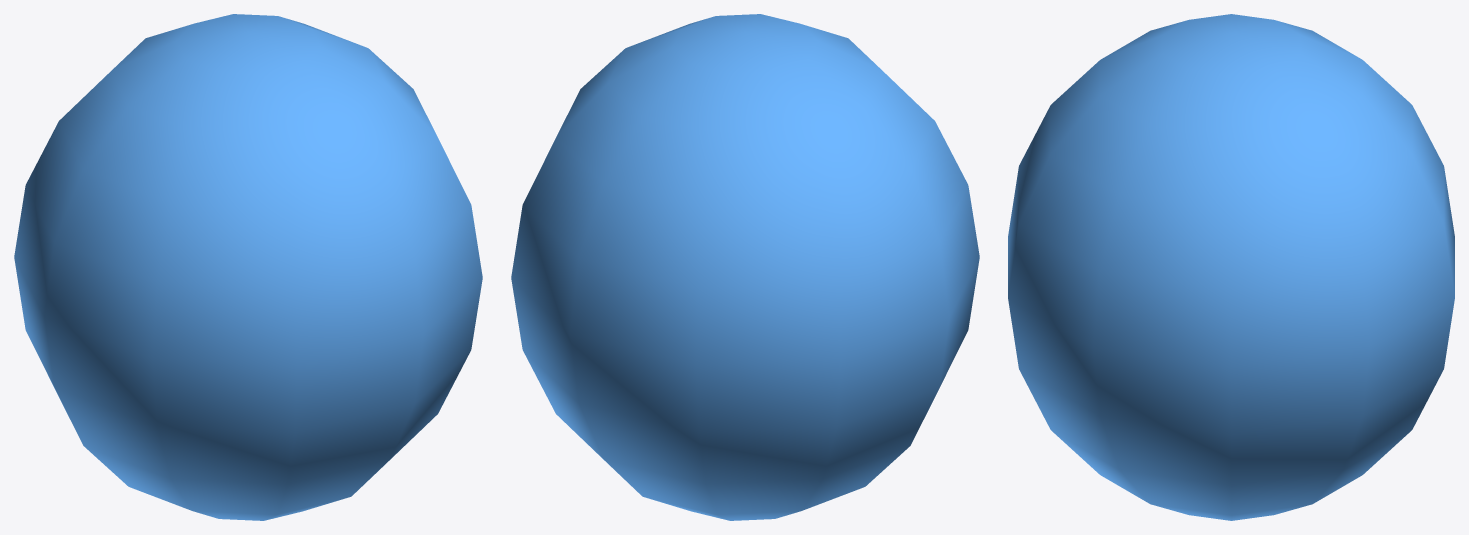
The model's file is zephyr_stage2.obj.
The picture shows the model from 3 angles, left to right: view 1: azimuth 30°, elevation 25°; view 2: azimuth 150°, elevation 25°; view 3: azimuth 270°, elevation 25°; orthographic projection.
Bounding box in the file's own units: 2 × 2.2 × 1.9.
